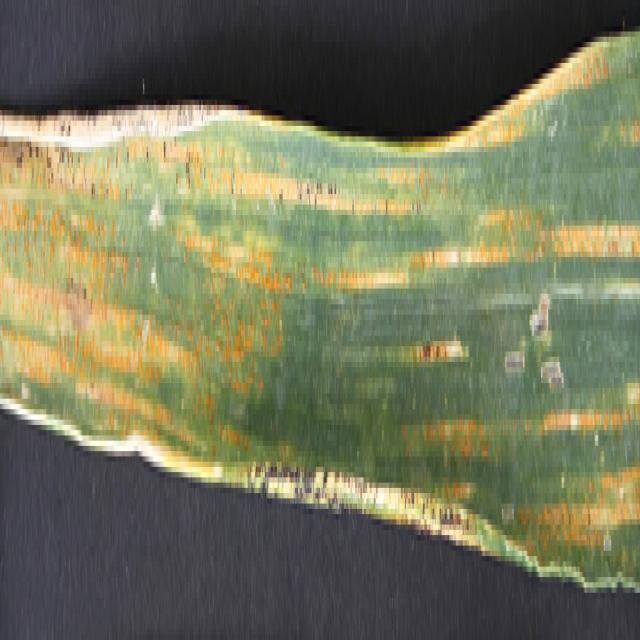leaf rust: (407, 142, 640, 556), (1, 79, 288, 394)
